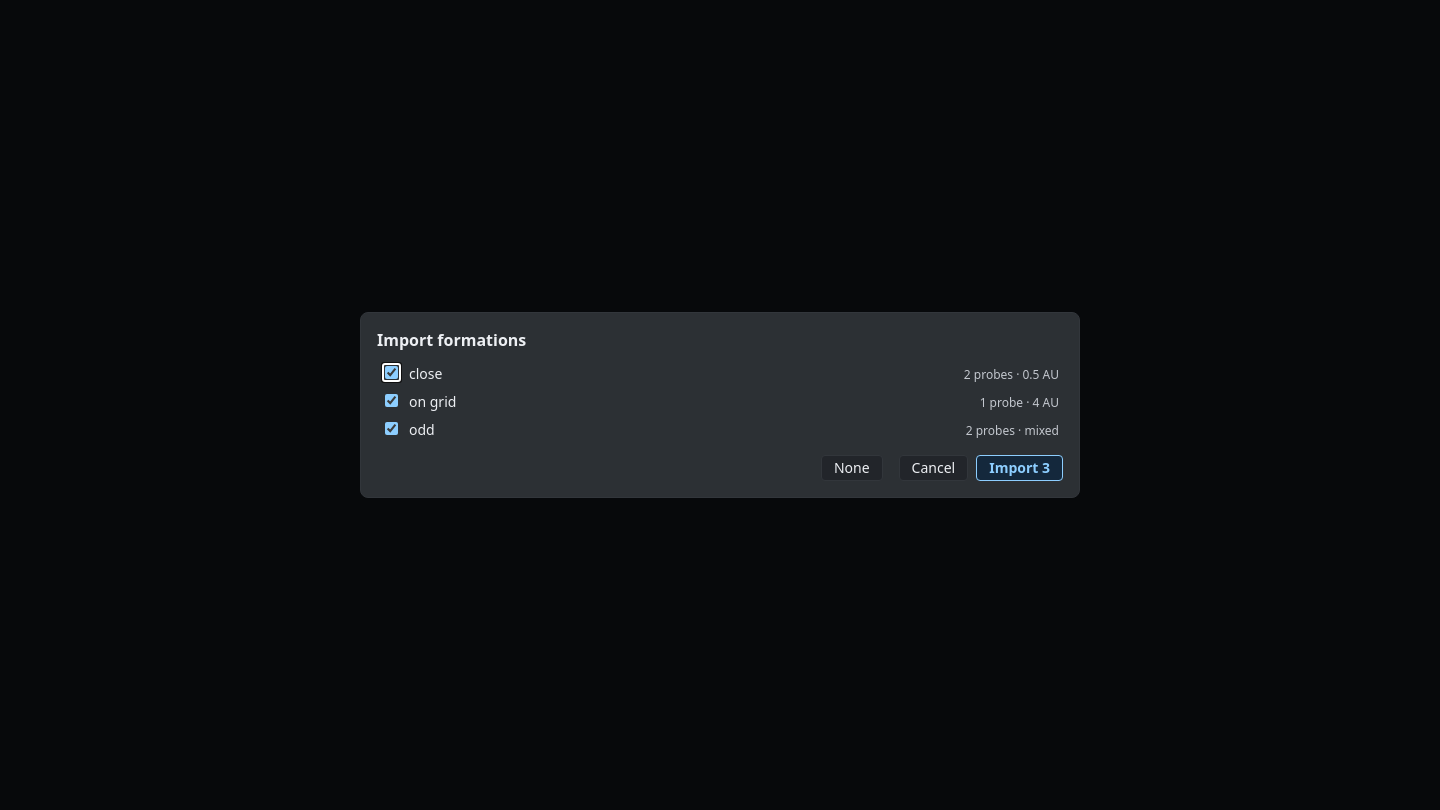
Test: FormationPicker › select all re-ticks everything after a manual untick
Click the checkbox labelled "close".
click(392, 372)  # box [385,366,398,379]
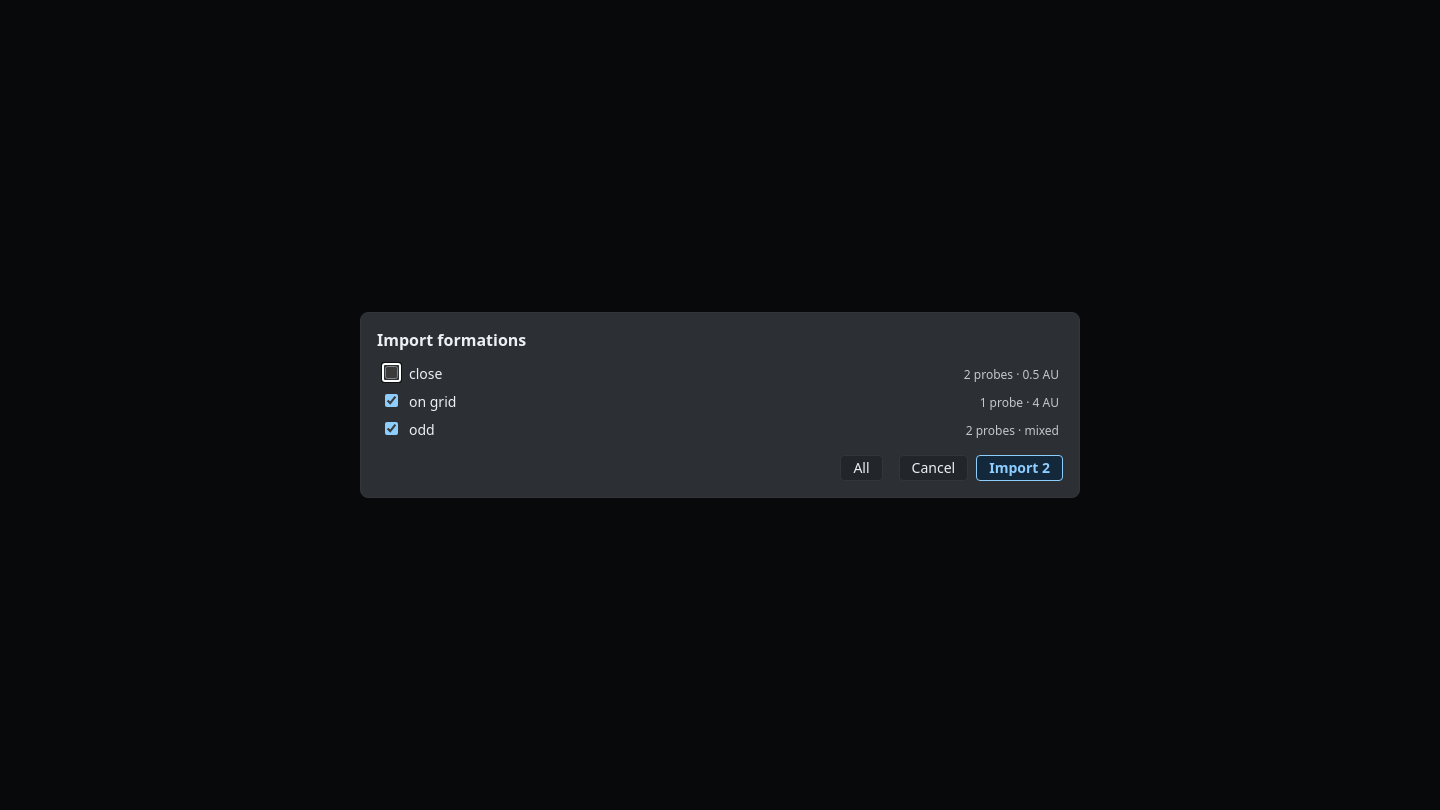
Click the button "All".
click(862, 468)  # box [840,455,883,481]
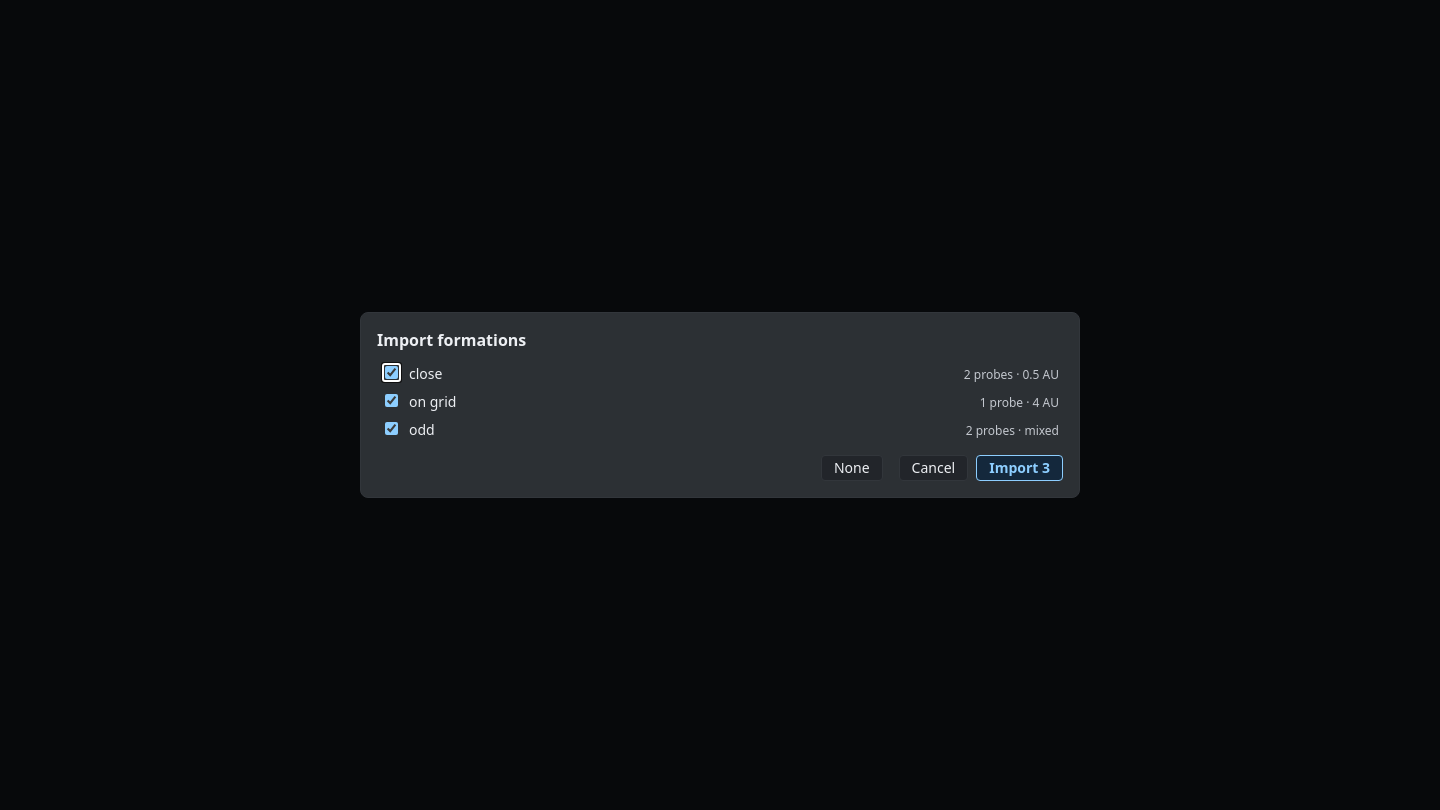
Check: the button "Import 3" is shown, box [976,455,1063,481]
